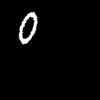chain: (19, 12, 36, 43)
